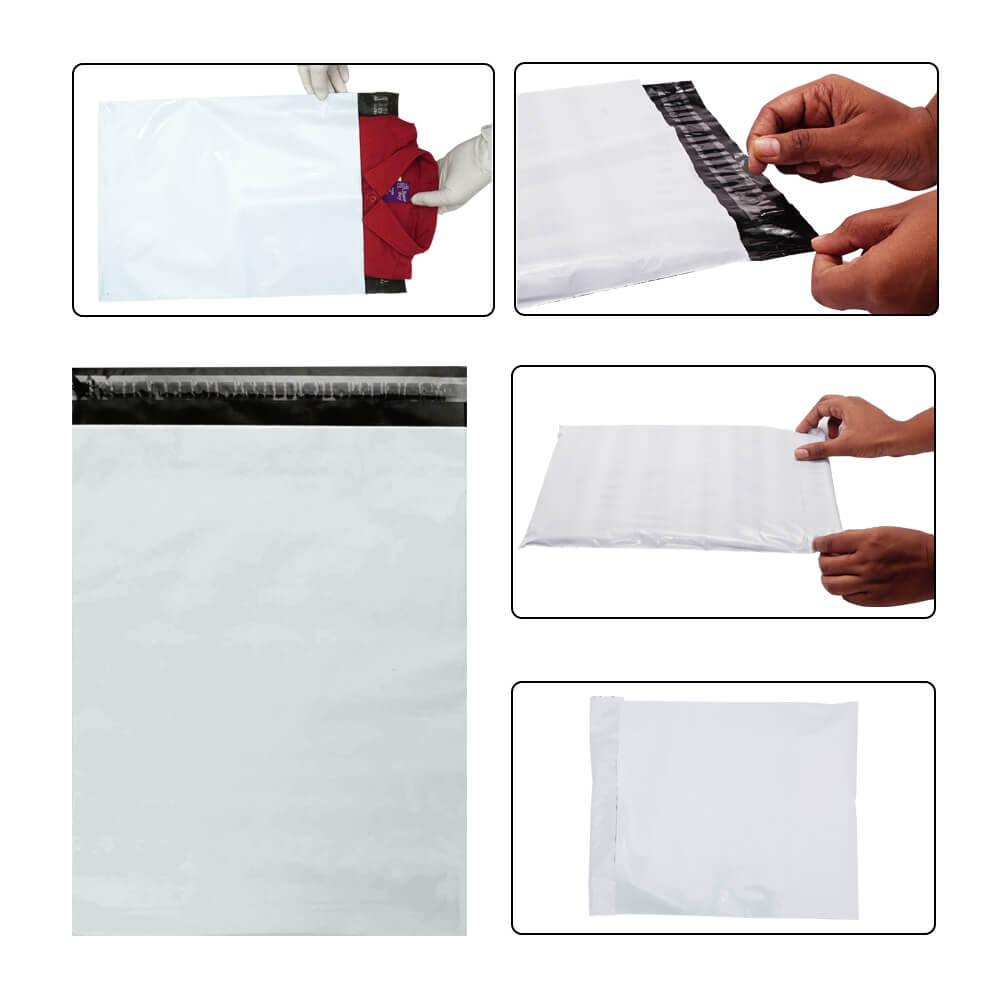塑料袋: (71, 368, 466, 936)
